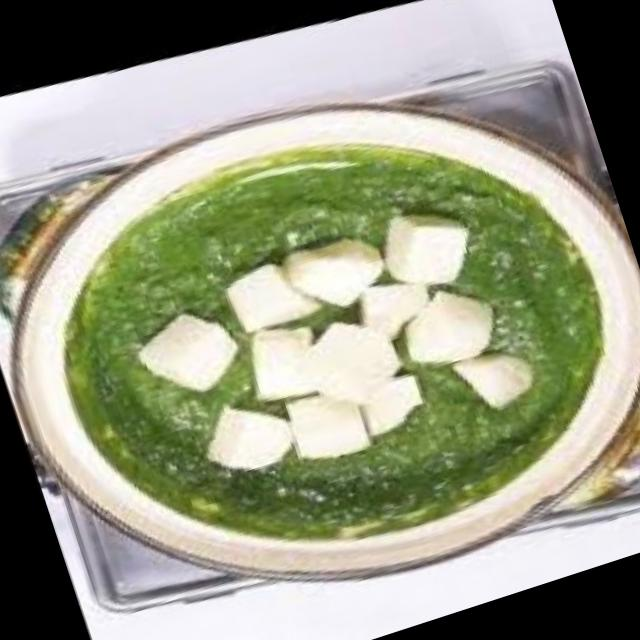palak_paneer: (9, 47, 640, 626)
